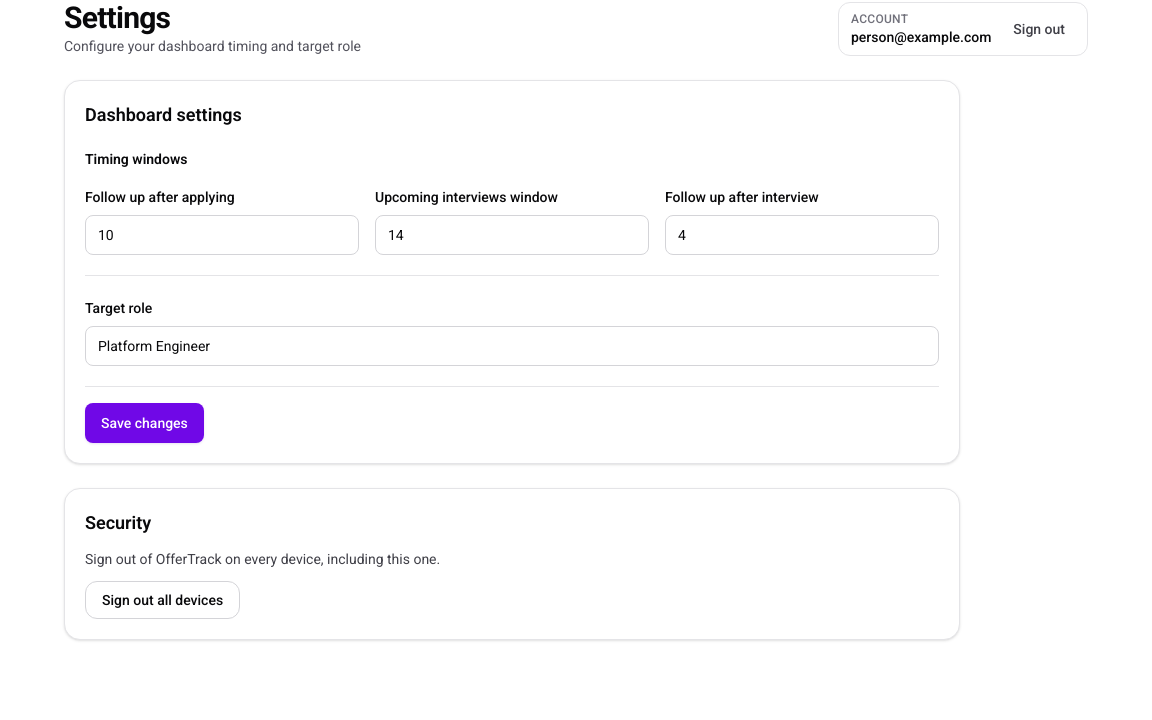
Scenario: SettingsPage auth gate › preserves the session and reports an error if confirmed logout-all fails
The image size is (1152, 720).
Expected: the heading "Dashboard settings" is shown, [85,104,242,125]
What coordinates should you click on to do the following:
click the button "Sign out all devices"
I would click on:
 (163, 600)
Its box is [85,581,240,619].
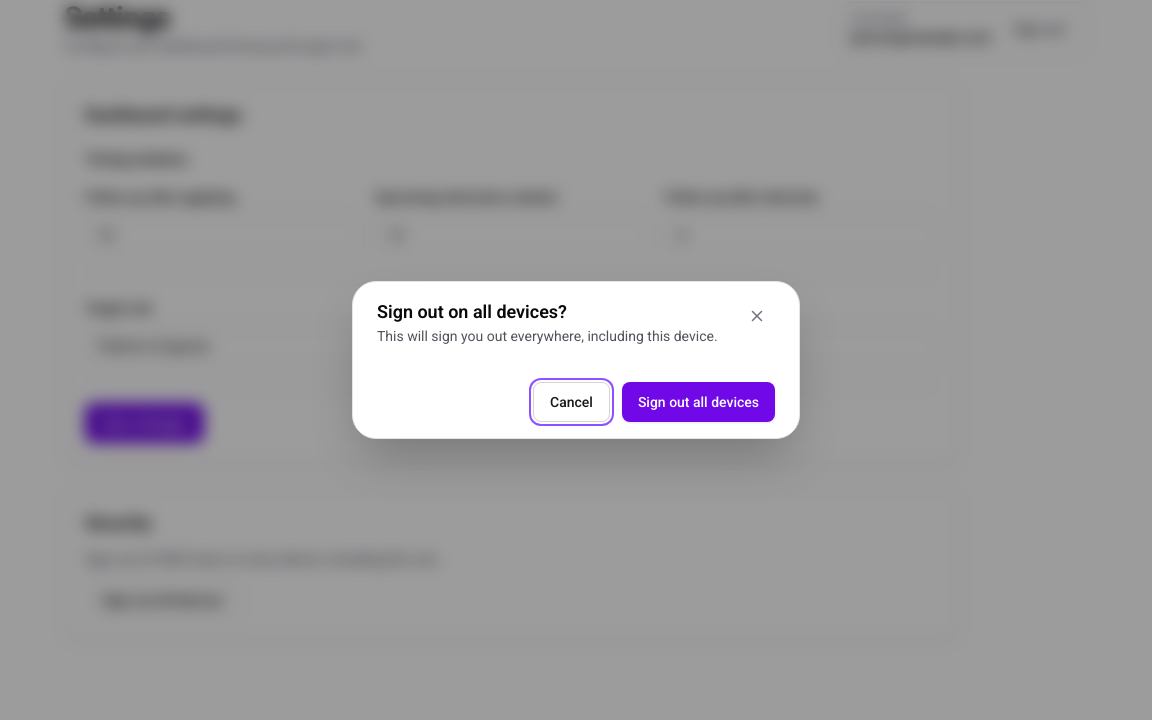
What coordinates should you click on to do the following:
click the button "Sign out all devices"
I would click on:
 (698, 402)
Its box is [622,382,775,422].
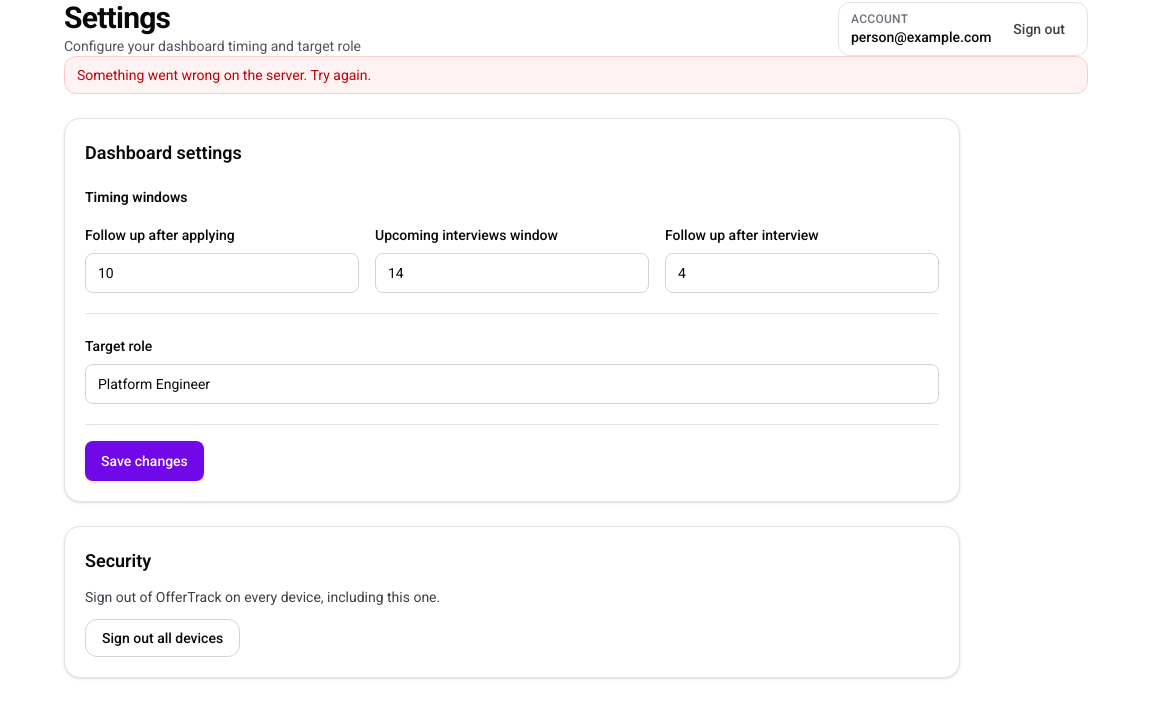
Expected: the message reads "Something went wrong on the server. Try again.", [77,67,371,83]
